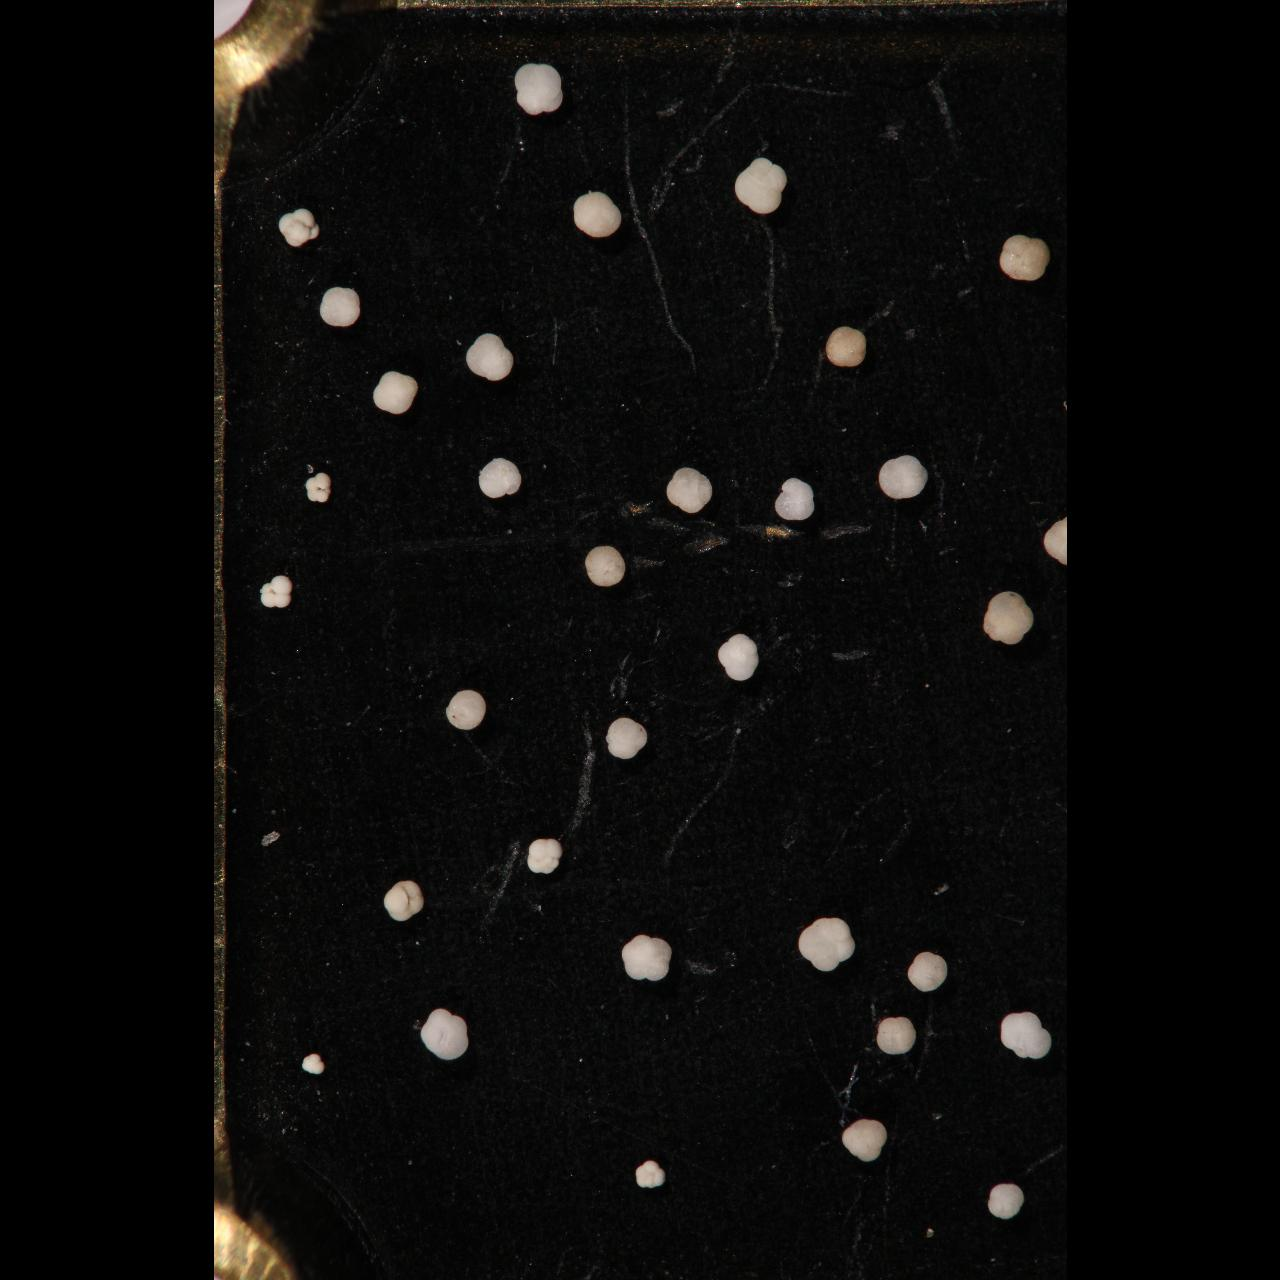planktic: (797, 915, 856, 973), (733, 157, 787, 216), (981, 590, 1035, 646), (417, 1007, 471, 1062), (999, 1010, 1053, 1062), (515, 61, 564, 116), (465, 331, 515, 383), (998, 233, 1050, 282), (620, 933, 674, 981), (877, 454, 930, 501), (665, 465, 714, 515), (571, 191, 621, 239), (839, 1117, 887, 1165), (370, 369, 420, 416), (604, 713, 648, 761), (716, 633, 760, 681), (774, 476, 817, 522), (824, 325, 867, 369), (477, 456, 522, 499), (381, 878, 425, 921), (905, 949, 949, 993), (443, 688, 486, 731), (316, 285, 361, 327), (874, 1014, 918, 1056), (585, 544, 626, 588), (277, 206, 319, 247), (987, 1182, 1028, 1220), (525, 836, 563, 876), (1042, 516, 1067, 568), (258, 574, 292, 610), (633, 1158, 667, 1190), (305, 471, 331, 504), (298, 1053, 324, 1077)
